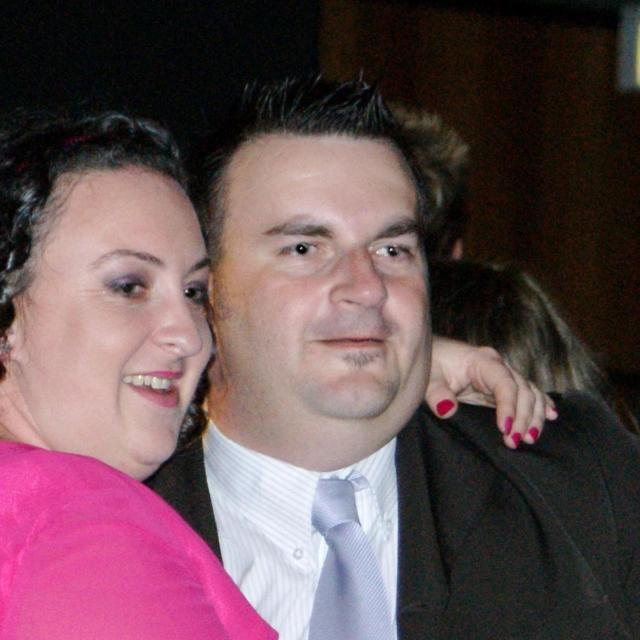no-glass: (274, 241, 423, 271), (105, 282, 208, 303)
